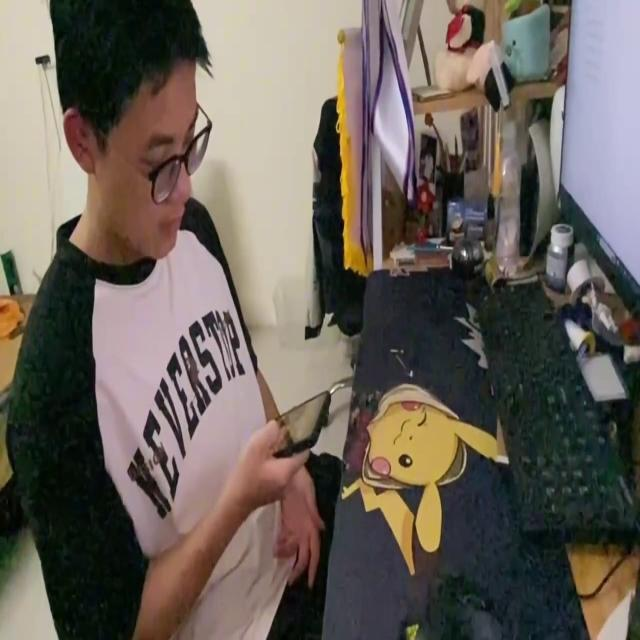laptop: (556, 0, 640, 328)
phone: (260, 384, 330, 457)
student: (5, 0, 333, 638)
